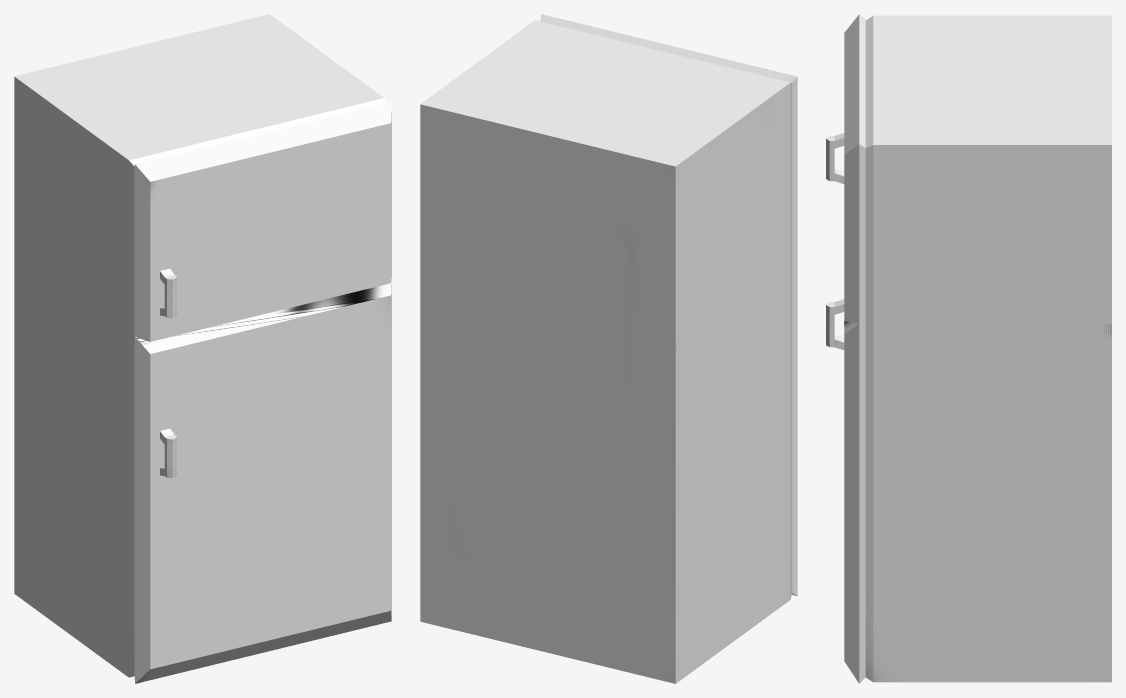
File: Refrigerador.fbx
3 renders of one model, left to right at view 1: azimuth 30°, elevation 25°; view 2: azimuth 150°, elevation 25°; view 3: azimuth 270°, elevation 25°, orthographic. The views are drawn at different scales.
Parts seen in each view (by area): view 1: Refri; view 2: Refri; view 3: Refri.
Part boxes in pixels (<box>): Refri: <box>14,14,391,683</box>; Refri: <box>420,14,797,683</box>; Refri: <box>826,14,1111,683</box>.
Bounding box in the file's own units: 258 × 500 × 240.
Materials: 1 (1 with a texture image).
